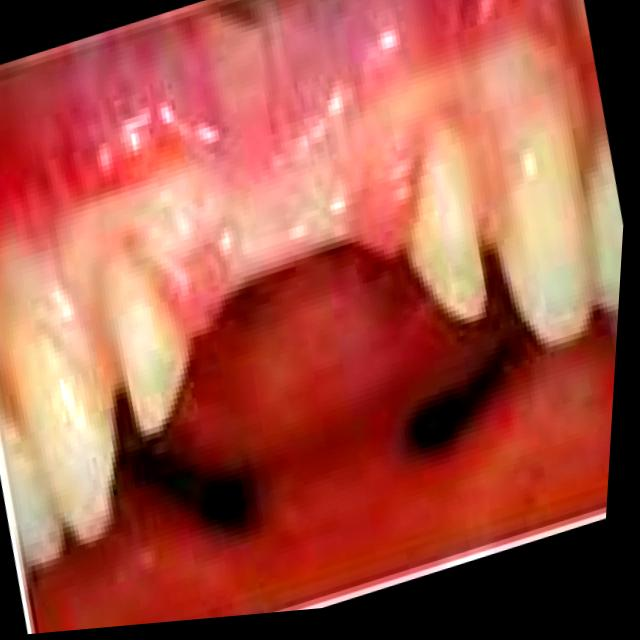hypodontia: (0, 0, 623, 561)
